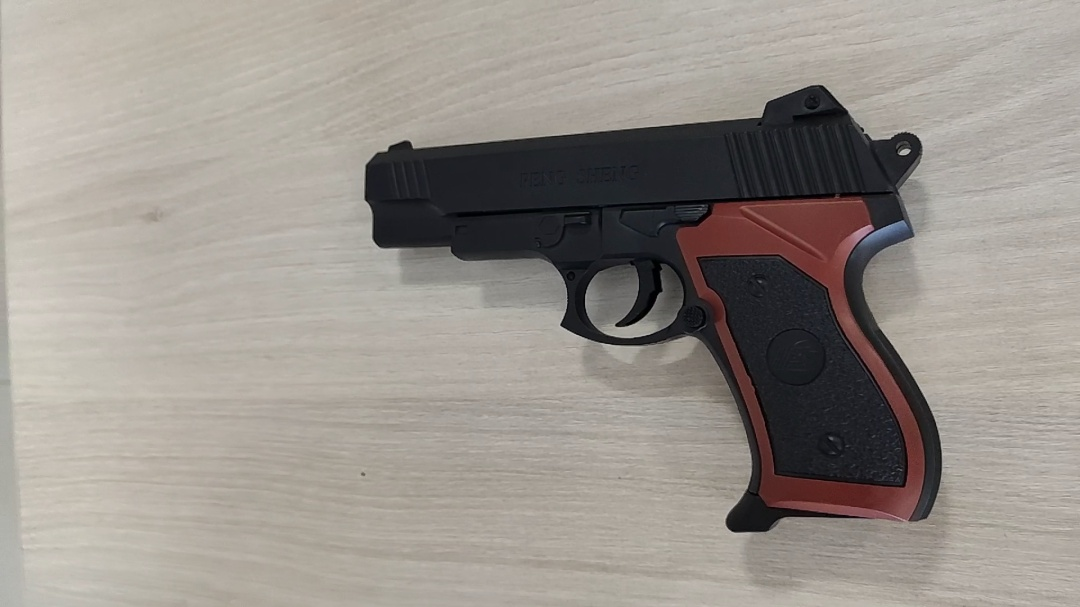gunw: (366, 81, 946, 534)
